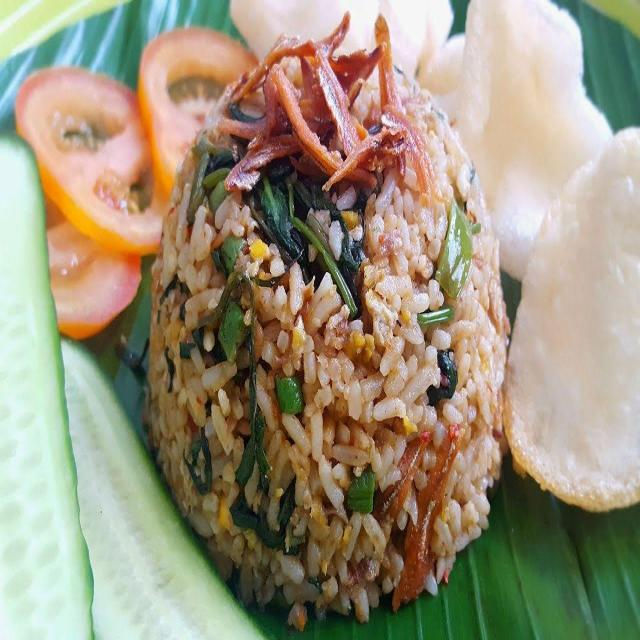Nasi Goreng: (144, 11, 510, 629)
